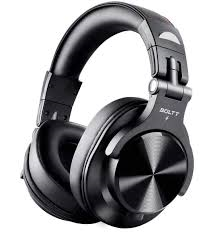headphone: (18, 1, 200, 229)
